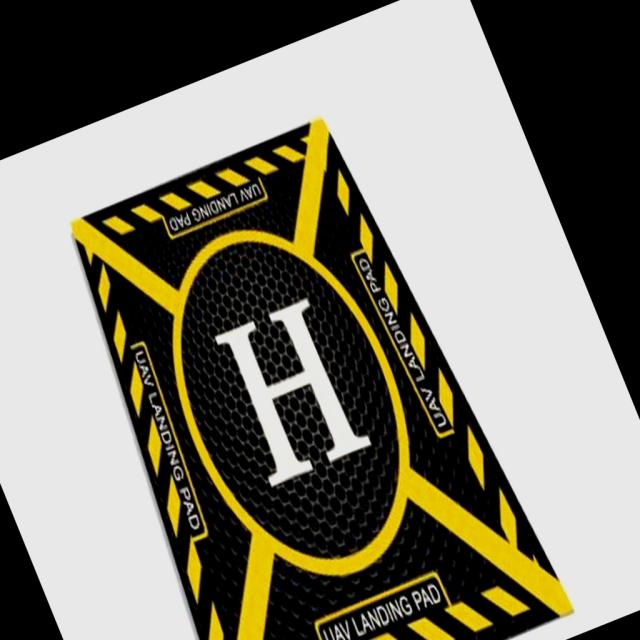helipad: (166, 227, 411, 579)
